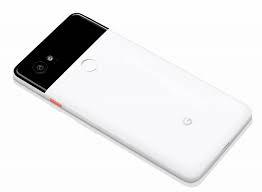Smartphone: (22, 17, 243, 187)
